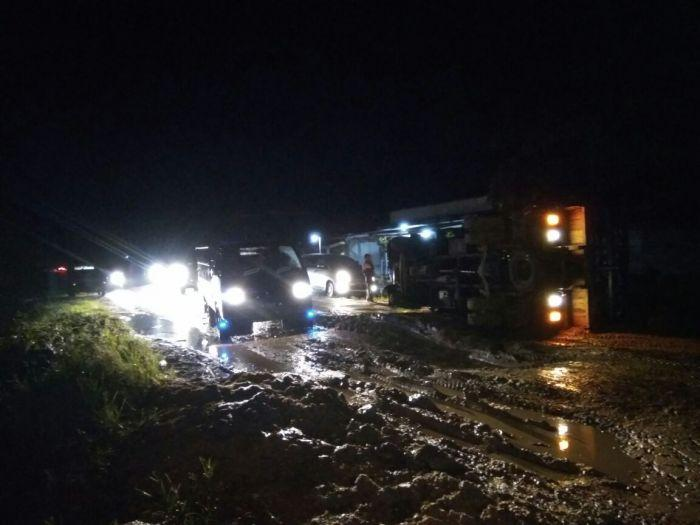Pothole: (354, 362, 641, 502)
